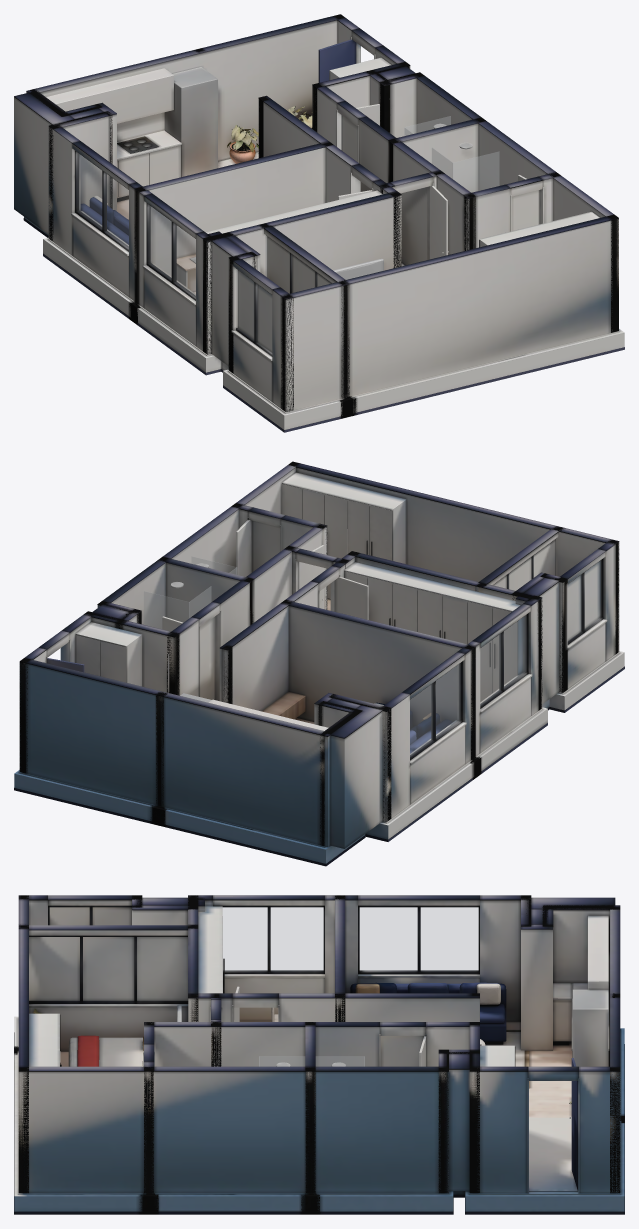
3 renders of one model, top to bottom at view 1: azimuth 30°, elevation 25°; view 2: azimuth 150°, elevation 25°; view 3: azimuth 270°, elevation 25°, orthographic. The views are drawn at different scales.
Parts seen in each view (by area): view 1: plan, glass0_m, glass1_m, glass2_m, sg.003_m; view 2: plan, glass0_m, glass1_m, glass2_m, sg.001_m; view 3: plan, glass3_m, glass0_m, glass1_m, sg_m, sg.002_m.
Boxes of the visible parts, x1,y1,x2,y2 form: plan: (14, 14, 624, 432); glass0_m: (77, 153, 128, 247); glass1_m: (149, 205, 195, 296); glass2_m: (237, 270, 271, 352); sg.003_m: (453, 152, 499, 192); plan: (14, 461, 624, 866); glass0_m: (410, 663, 460, 756); glass1_m: (480, 615, 526, 704); glass2_m: (568, 561, 600, 640); sg.001_m: (144, 591, 189, 628); plan: (14, 895, 624, 1214); glass3_m: (29, 937, 187, 1000); glass0_m: (360, 907, 478, 970); glass1_m: (223, 907, 323, 970); sg_m: (316, 1056, 364, 1066); sg.002_m: (259, 1056, 304, 1066).
Bounding box in the file's own units: 7.14 × 2.62 × 10.26.
2 materials, 1 textured.
